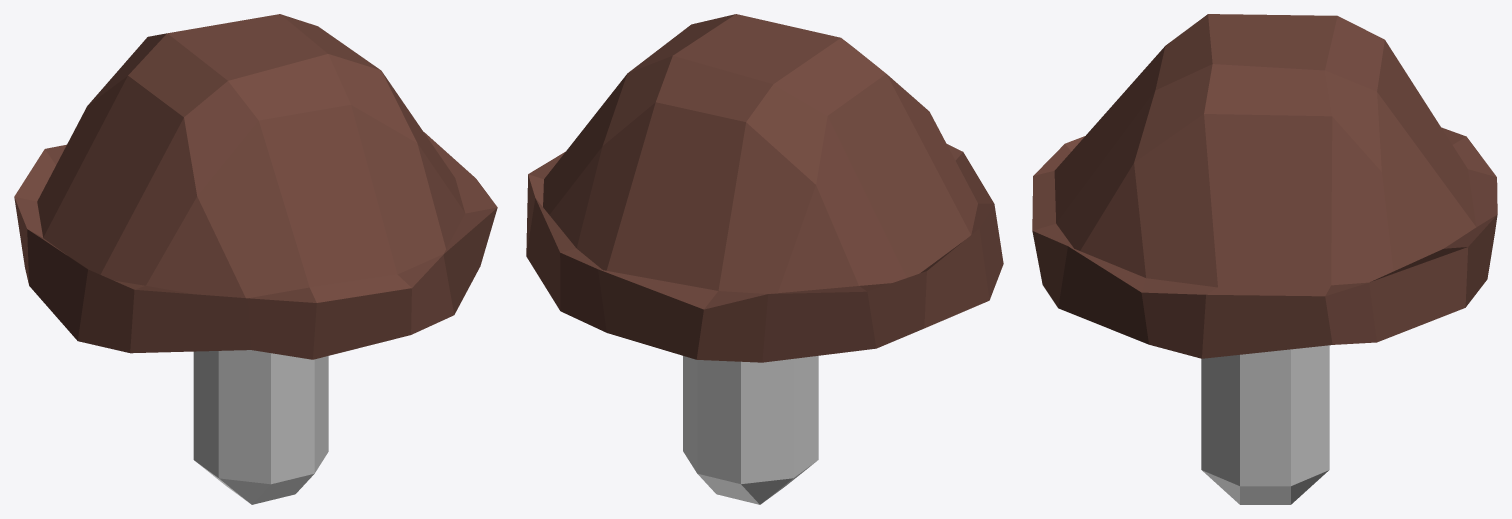
Rendered from mushroom.fbx.
3 views of the same model, side by side, from view 1: azimuth 30°, elevation 25°; view 2: azimuth 150°, elevation 25°; view 3: azimuth 270°, elevation 25° (orthographic).
Visible parts, largest first — view 1: Cube.001, Cube; view 2: Cube.001, Cube; view 3: Cube.001, Cube.
Boxes of the visible parts, x1,y1,x2,y2 form: Cube.001: (14,14,497,359); Cube: (193,350,328,504); Cube.001: (526,14,1003,362); Cube: (683,356,818,504); Cube.001: (1032,14,1497,358); Cube: (1201,345,1329,504).
Bounding box in the file's own units: 734 × 775 × 726.
